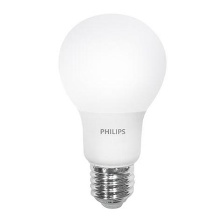light_bulb: (49, 8, 171, 214)
